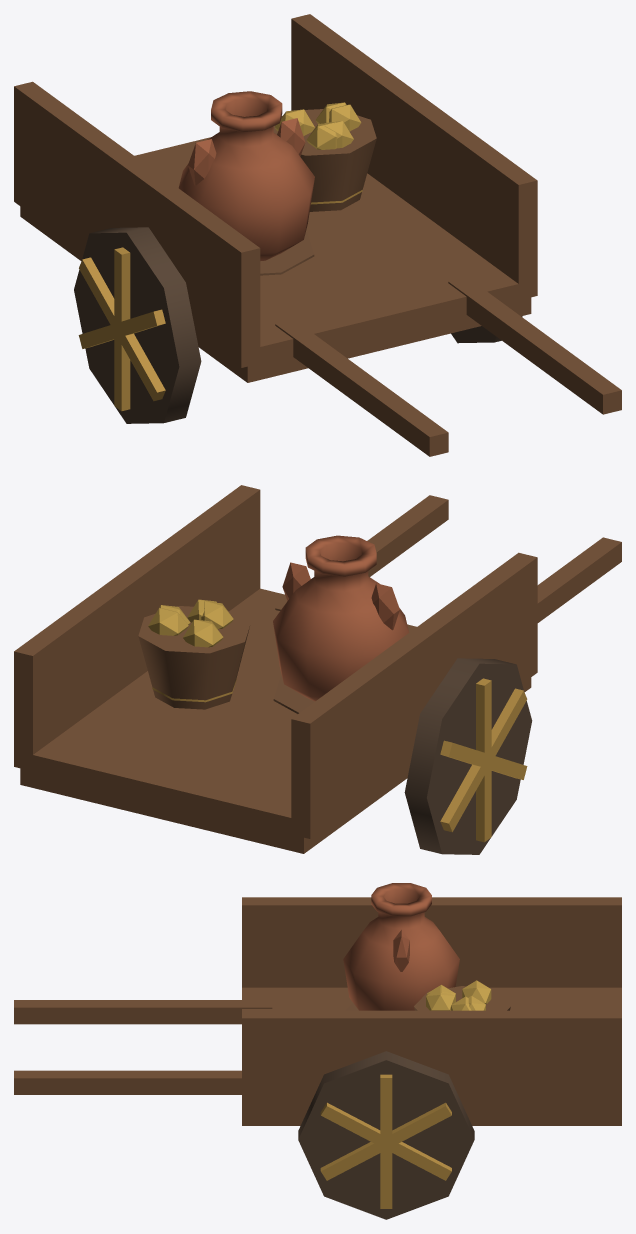
Rendered from cart.glb.
3 renders of one model, top to bottom at view 1: azimuth 30°, elevation 25°; view 2: azimuth 150°, elevation 25°; view 3: azimuth 270°, elevation 25°, orthographic. The views are drawn at different scales.
Parts seen in each view (by area): view 1: cart-surface; view 2: cart-surface; view 3: cart-surface.
Boxes of the visible parts, x1,y1,x2,y2 form: cart-surface: [14, 14, 621, 456]; cart-surface: [14, 485, 621, 854]; cart-surface: [14, 883, 621, 1219].
Size of the model in its own units: 2.35 by 1.69 by 4.
